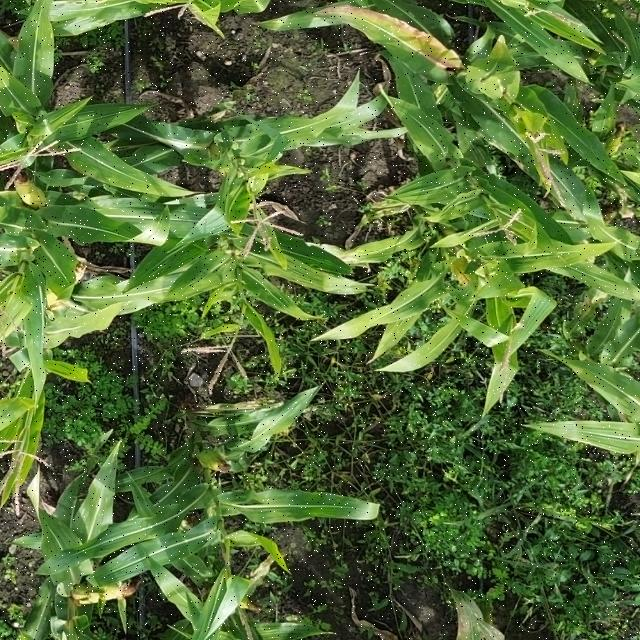gray-leaf-spot: (85, 266, 205, 322), (69, 444, 121, 526), (70, 99, 146, 154)
northern-leaf-blight: (306, 8, 462, 82)
